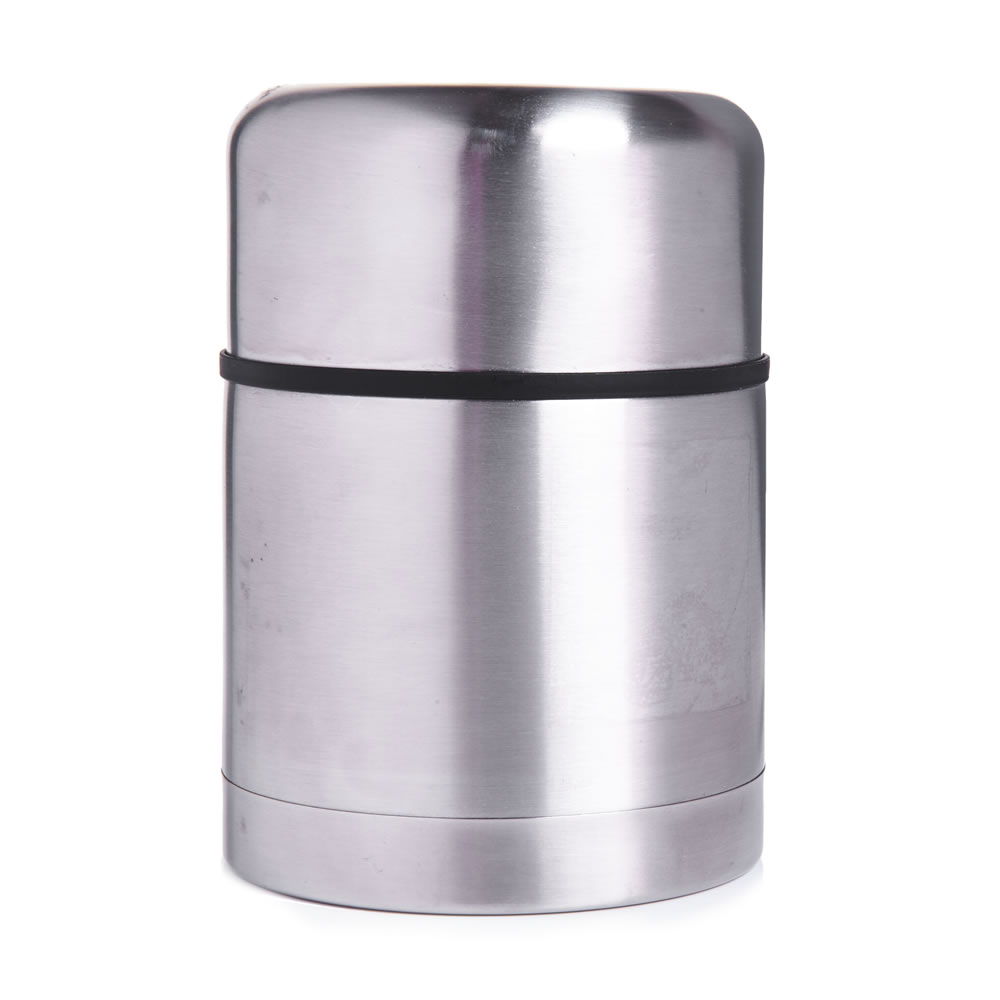metal: (215, 82, 770, 916)
